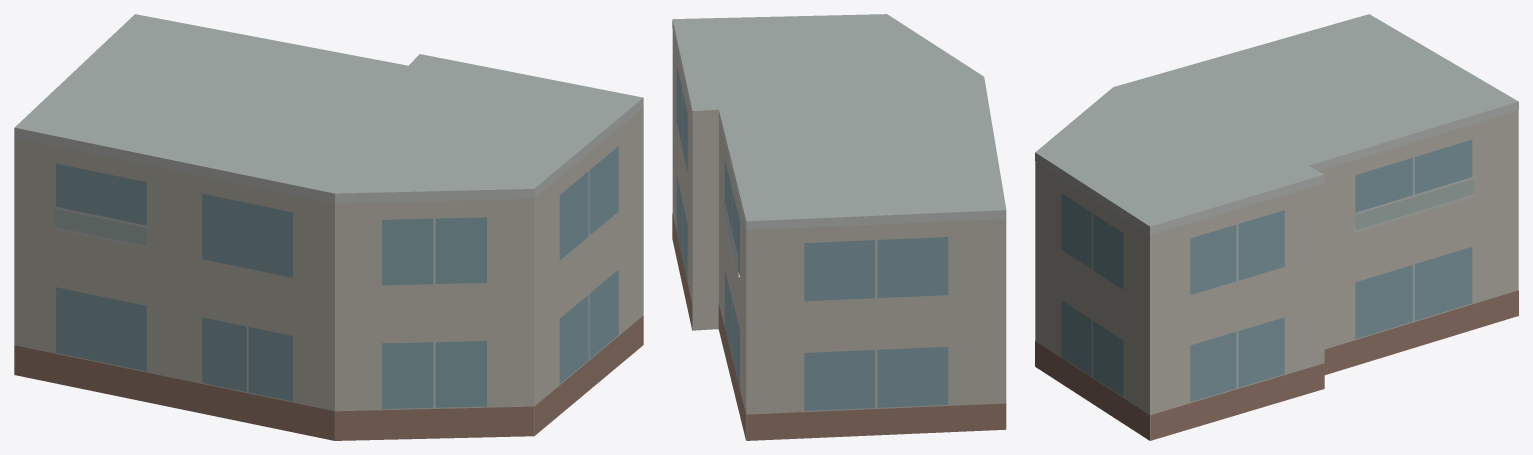
File: survey-upis-32692347.glb
3 renders of one model, left to right at view 1: azimuth 30°, elevation 25°; view 2: azimuth 150°, elevation 25°; view 3: azimuth 270°, elevation 25°, orthographic. The views are drawn at different scales.
Parts seen in each view (by area): view 1: survey-upis-32692347.tmp; view 2: survey-upis-32692347.tmp; view 3: survey-upis-32692347.tmp.
Part boxes in pixels (x1,y1,x2,y2): survey-upis-32692347.tmp: (14,14,643,440); survey-upis-32692347.tmp: (672,14,1006,440); survey-upis-32692347.tmp: (1035,14,1518,440).
Bounding box in the file's own units: 12.99 × 6.1 × 12.48.
